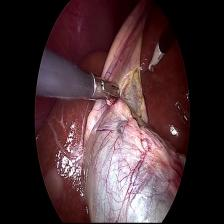Grasper: (90, 72, 126, 113)
Hook: (142, 39, 168, 84)
